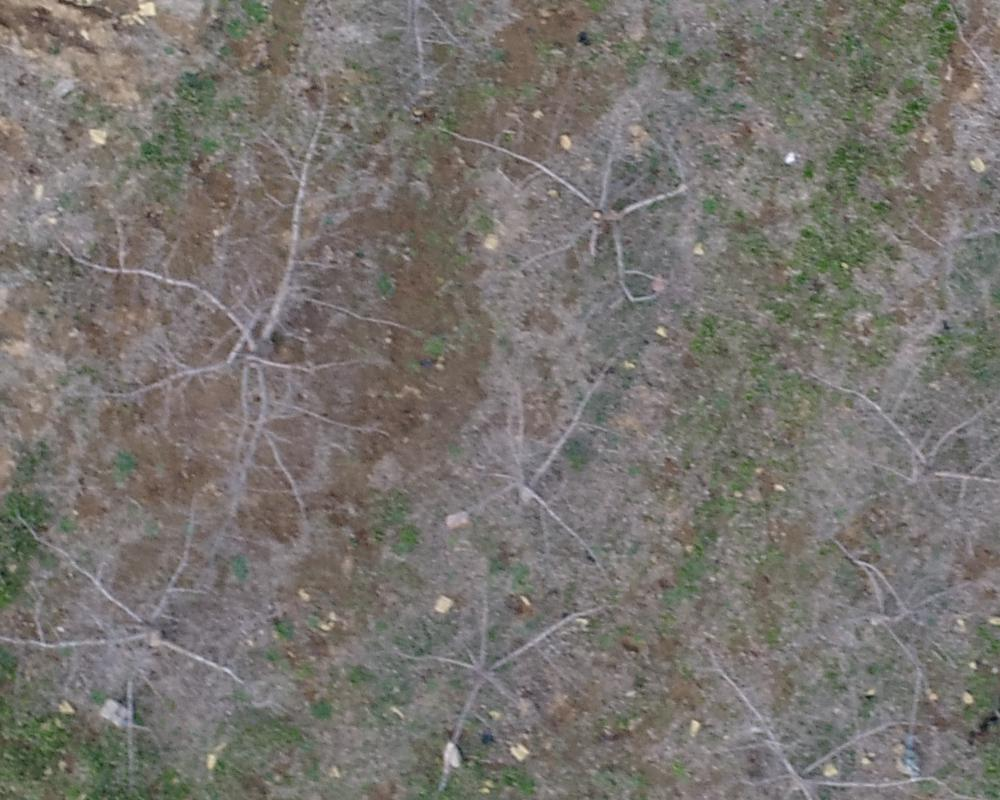apple: (60, 108, 381, 529), (10, 487, 269, 734), (447, 111, 737, 320), (349, 571, 622, 779), (423, 355, 657, 571), (669, 649, 949, 790), (779, 529, 990, 700), (808, 355, 990, 541)
